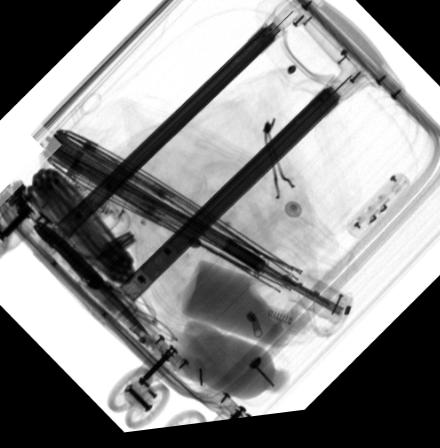Knife: (31, 222, 148, 340)
